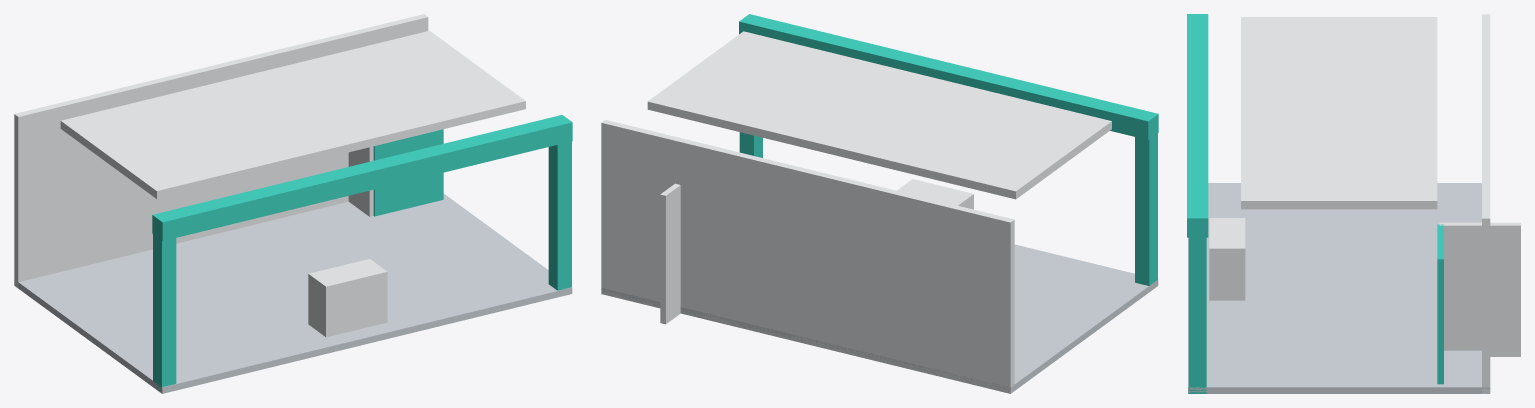
3 renders of one model, left to right at view 1: azimuth 30°, elevation 25°; view 2: azimuth 150°, elevation 25°; view 3: azimuth 270°, elevation 25°, orthographic. The views are drawn at different scales.
Visible parts, largest first — view 1: Exhibition Booth Concept; view 2: Exhibition Booth Concept; view 3: Exhibition Booth Concept.
Boxes of the visible parts, box(x1,y1,x2,y2) form: Exhibition Booth Concept: box(14, 14, 572, 393); Exhibition Booth Concept: box(601, 14, 1158, 393); Exhibition Booth Concept: box(1187, 14, 1520, 393).
Size of the model in its own units: 8 by 3.34 by 5.52.
